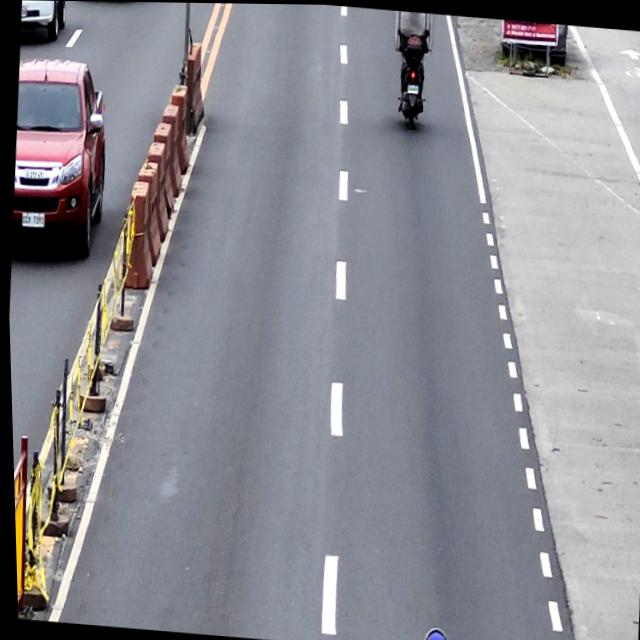License-Plate: (406, 82, 419, 93)
Motorcycle: (392, 9, 430, 121)
